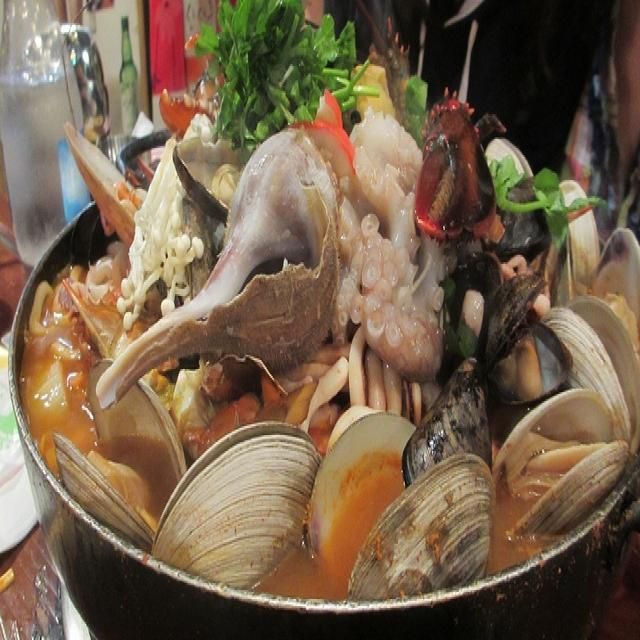汤锅炖物: (6, 28, 628, 604)
